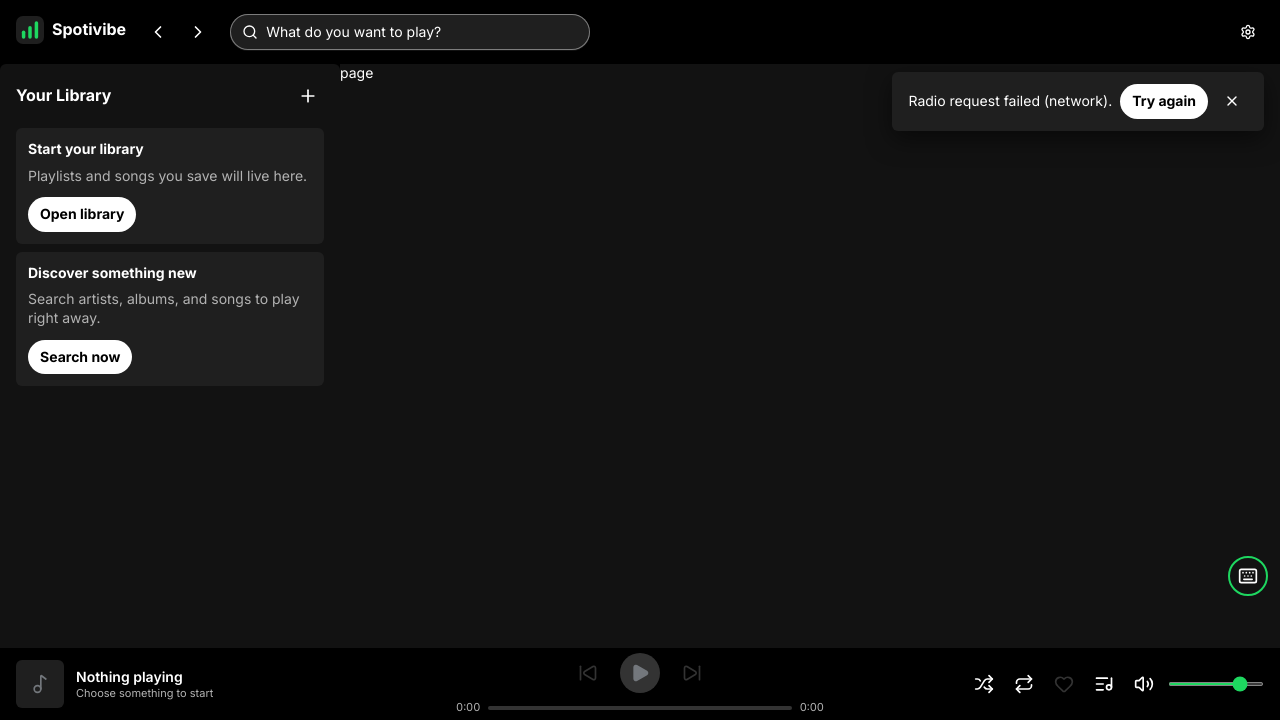
the help surface › restores focus to the control that opened it
Click the button named "Keyboard shortcuts". click: click(1248, 576)
box: [1232,560,1264,592]
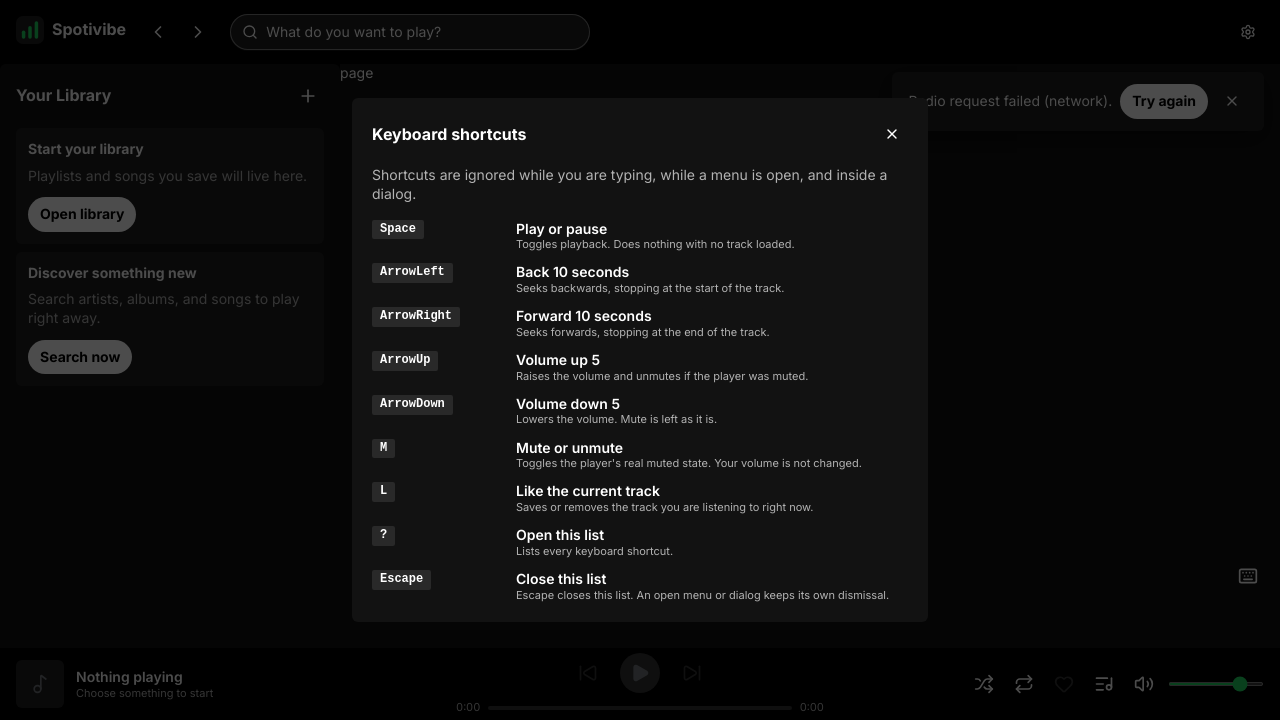
Press Escape in the dialog "Keyboard shortcuts", box [352,98,928,622]
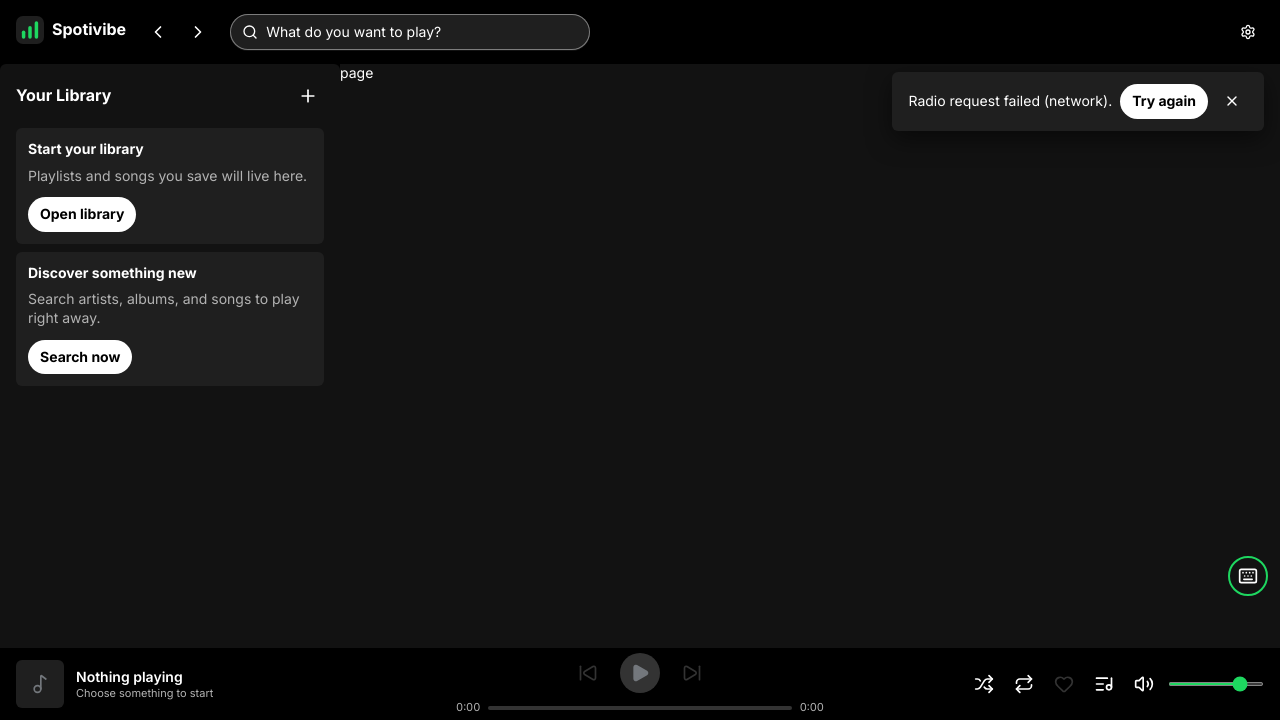
Expected: the dialog is gone
